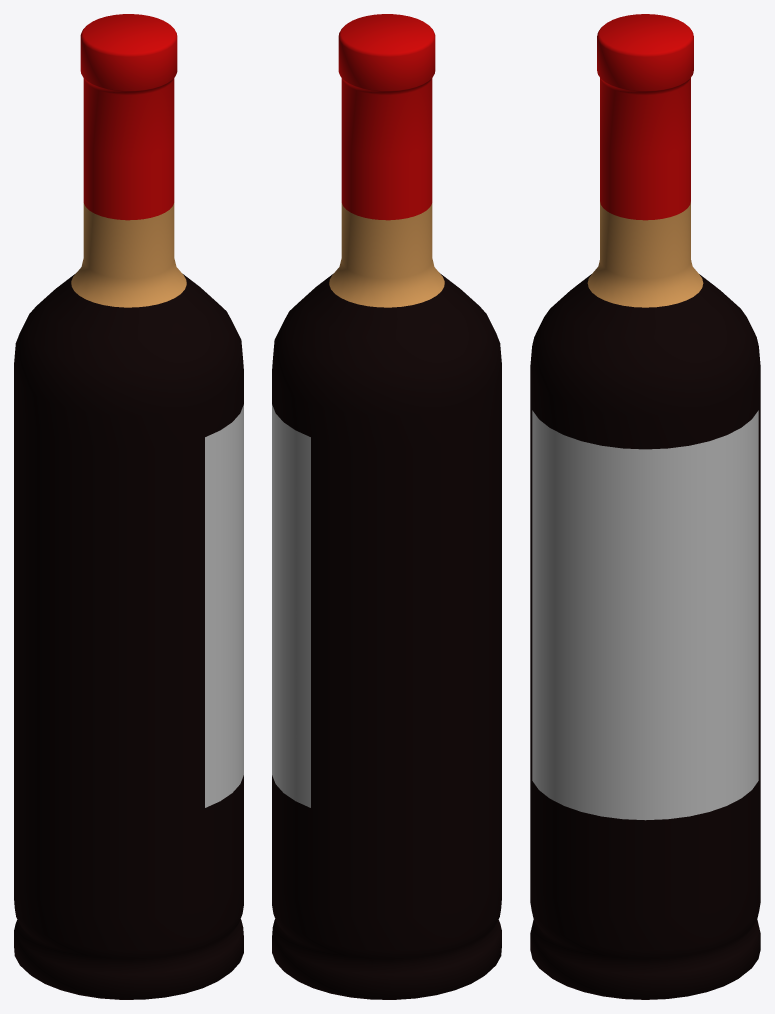
File: knight.obj
The picture shows the model from 3 angles, left to right: view 1: azimuth 30°, elevation 25°; view 2: azimuth 150°, elevation 25°; view 3: azimuth 270°, elevation 25°; orthographic projection.
Visible parts, largest first — view 1: Cylinder; view 2: Cylinder; view 3: Cylinder.
Part boxes in pixels (x1,y1,x2,y2): Cylinder: (14, 14, 243, 999); Cylinder: (272, 14, 501, 999); Cylinder: (530, 14, 760, 999).
Size of the model in its own units: 1.36 by 5.98 by 1.36.
